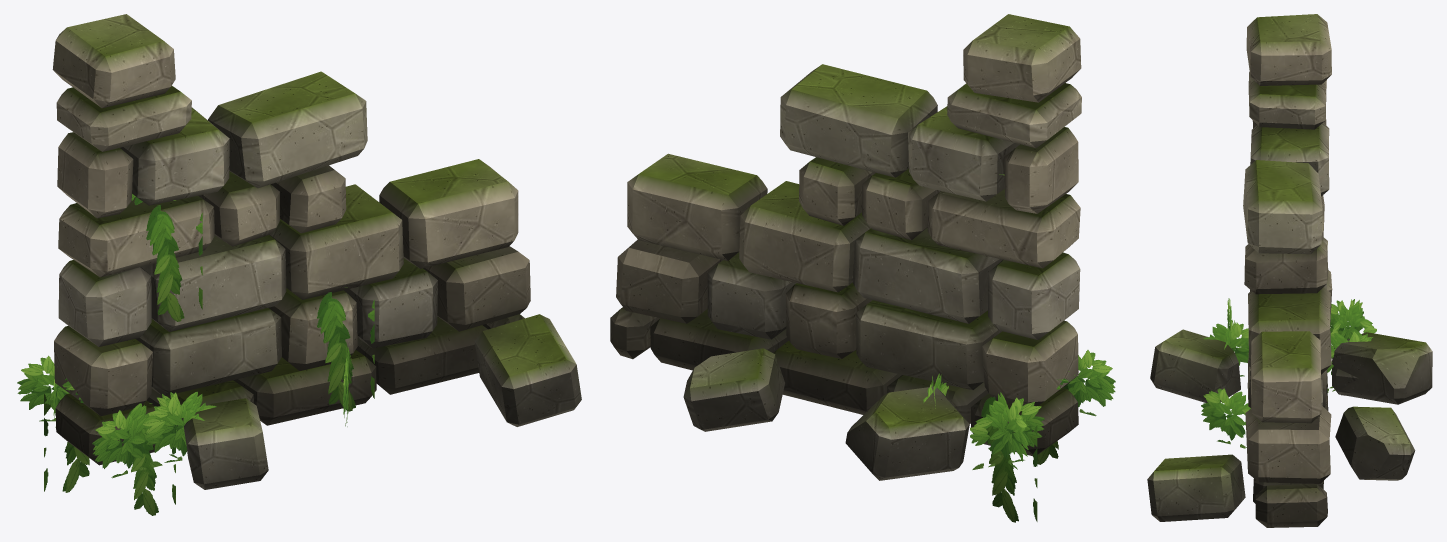
Rendered from ruin_wall_a.glb.
3 views of the same model, side by side, from view 1: azimuth 30°, elevation 25°; view 2: azimuth 150°, elevation 25°; view 3: azimuth 270°, elevation 25° (orthographic). The views are drawn at different scales.
Parts seen in each view (by area): view 1: ruin_wall_a; view 2: ruin_wall_a; view 3: ruin_wall_a.
Boxes of the visible parts, <box> form: ruin_wall_a: <box>17,14,581,515</box>; ruin_wall_a: <box>610,14,1115,522</box>; ruin_wall_a: <box>1147,14,1432,527</box>.
Size of the model in its own units: 2.78 by 2.72 by 1.79.
2 materials, 2 textured.
